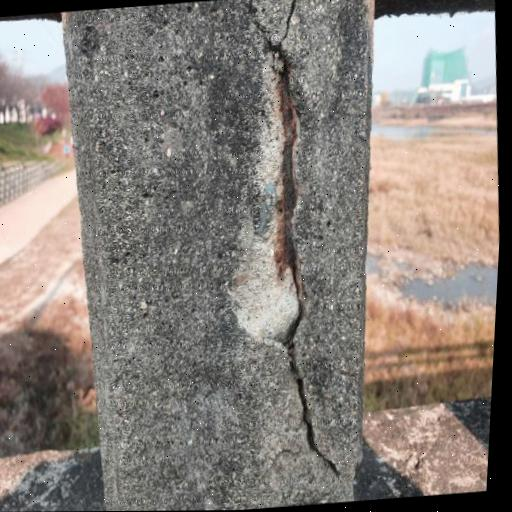exposed_rebar: (277, 66, 298, 300)
